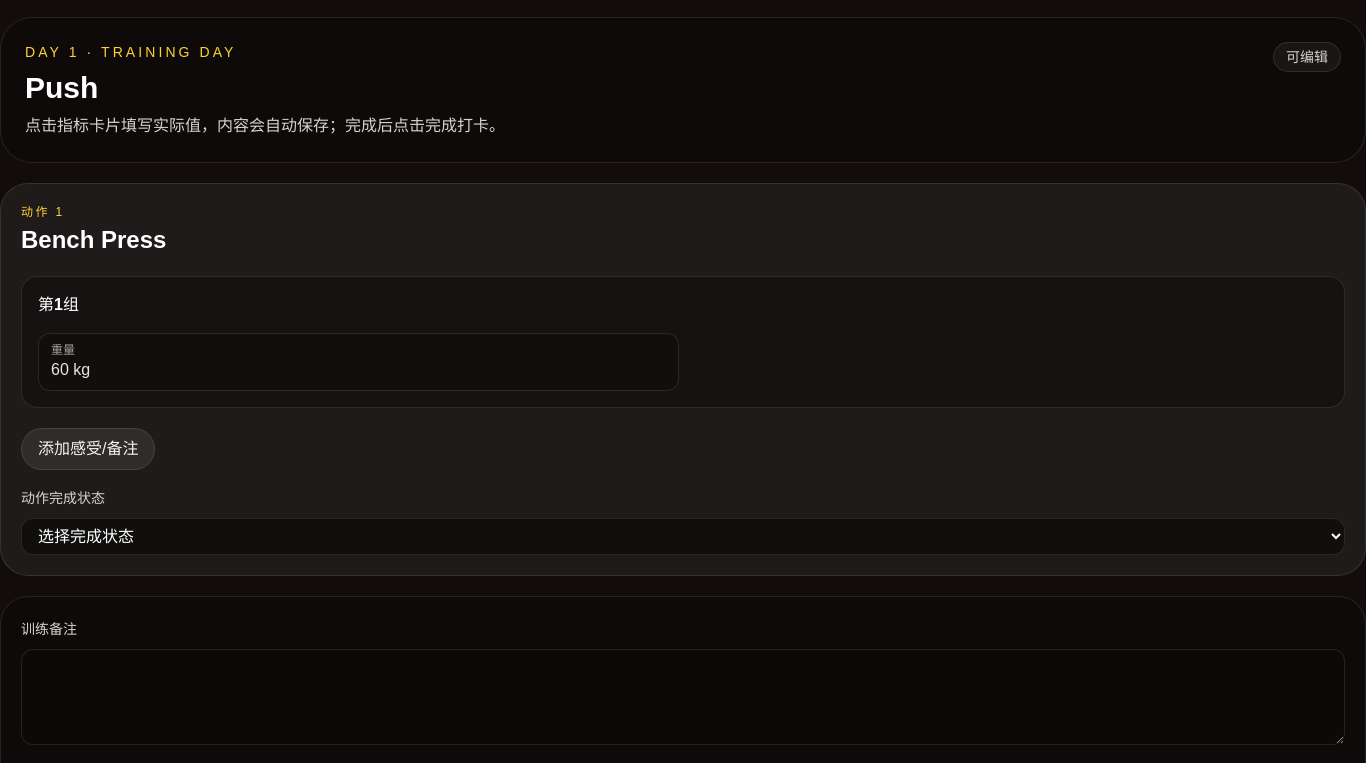
Test: WorkoutPage › blocks completion with invalid actual metric values
This screenshot has width=1366, height=763.
(page scrolled)
Check: the heading "Bench Press" is shown, box [21,224,166,256]
Click the button "重量 60 kg" at (63, 350), box [38,333,679,391]
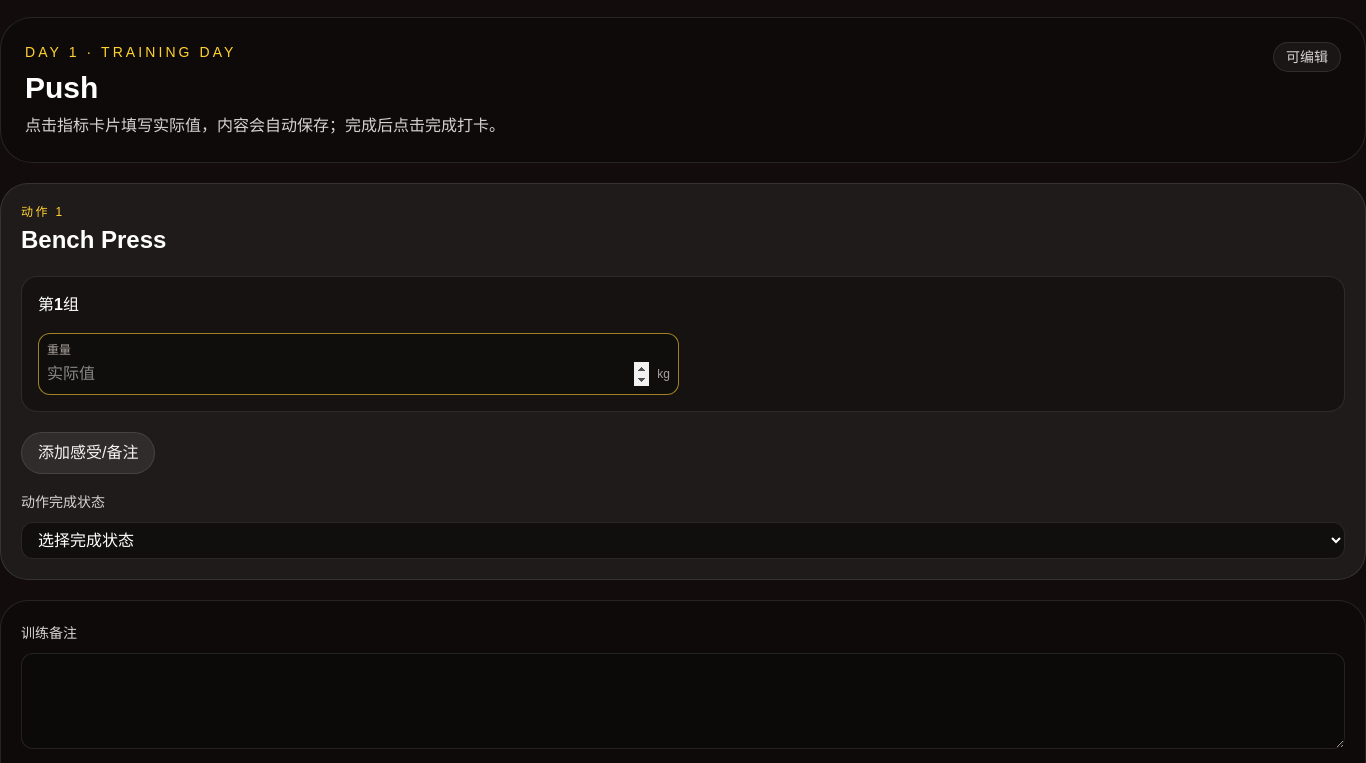
Type "-10" into the number field with placeholder "实际值" at (348, 374), box [47,362,649,386]
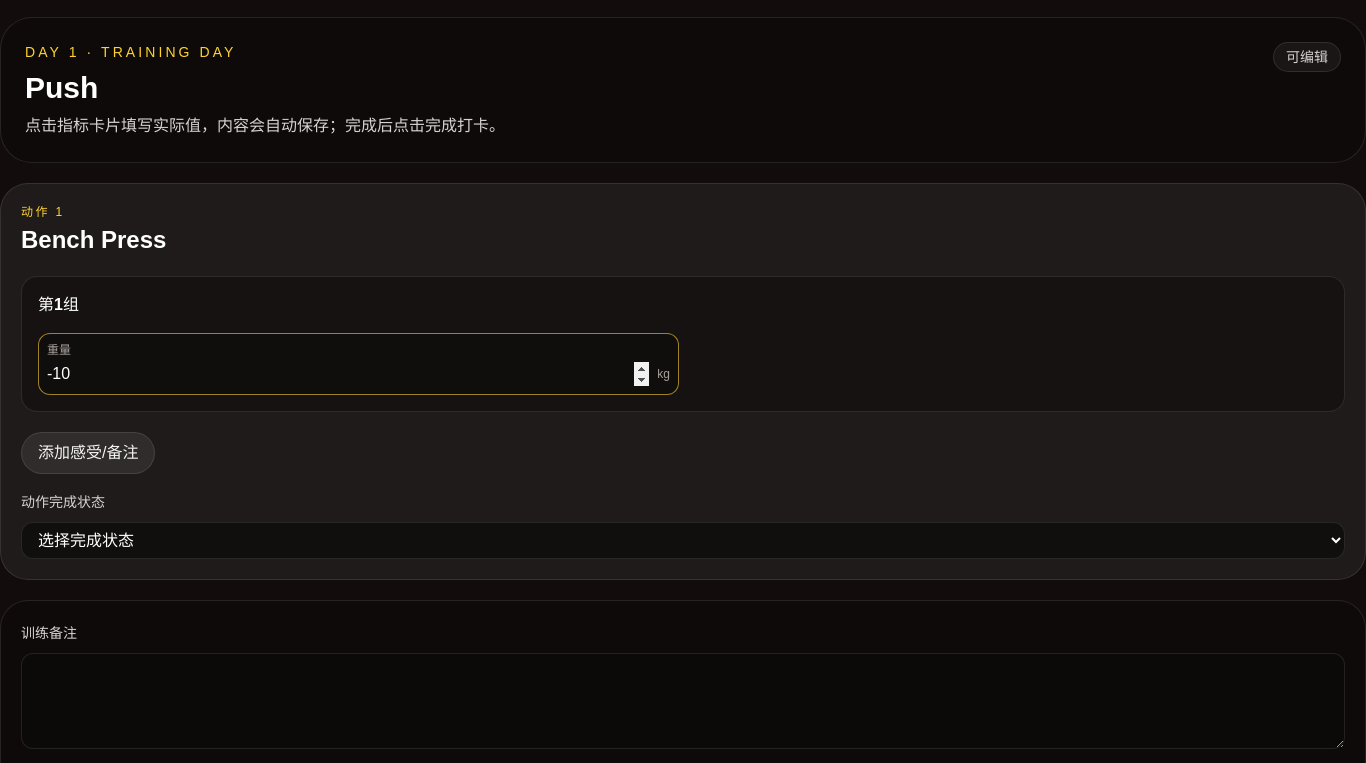
Press Tab
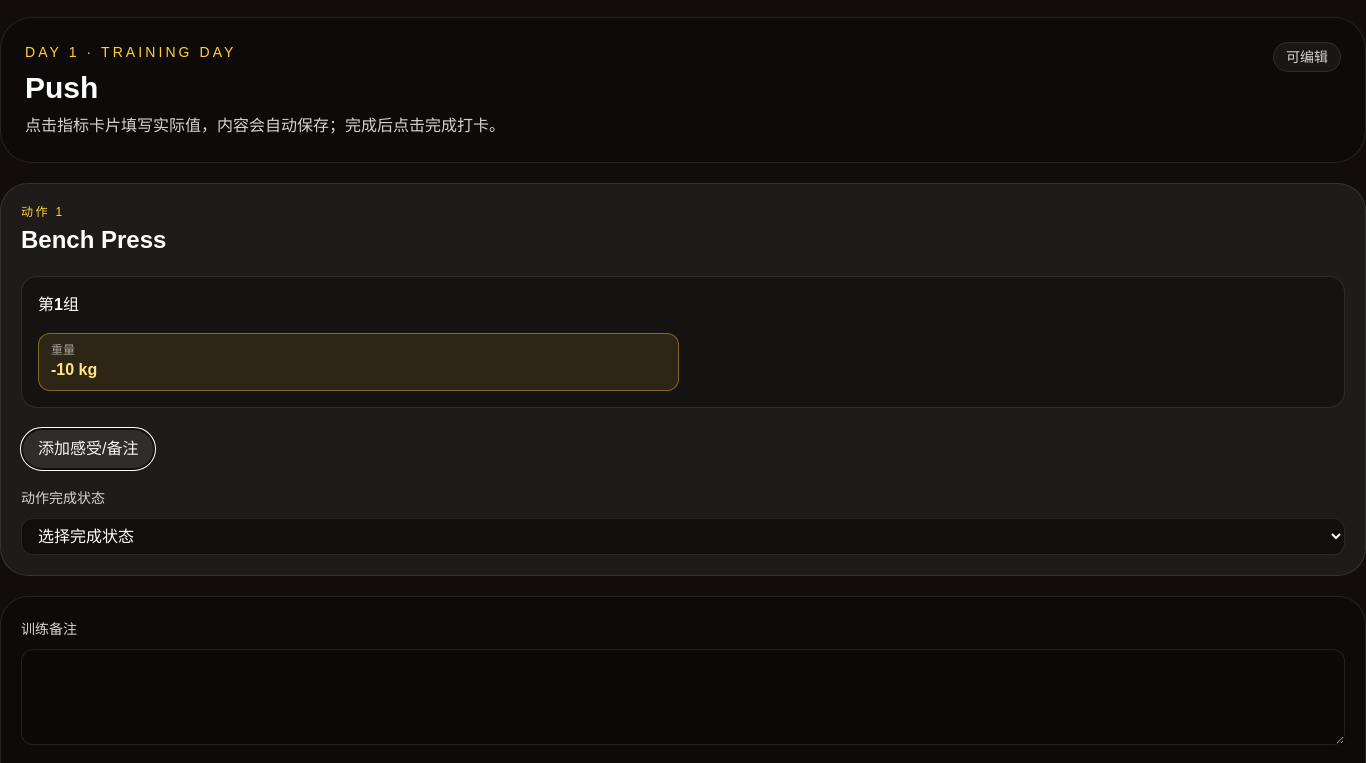
Select "已完成" in the dropdown named "Bench Press 完成状态" at (683, 536), box [21,518,1345,555]
(page scrolled)
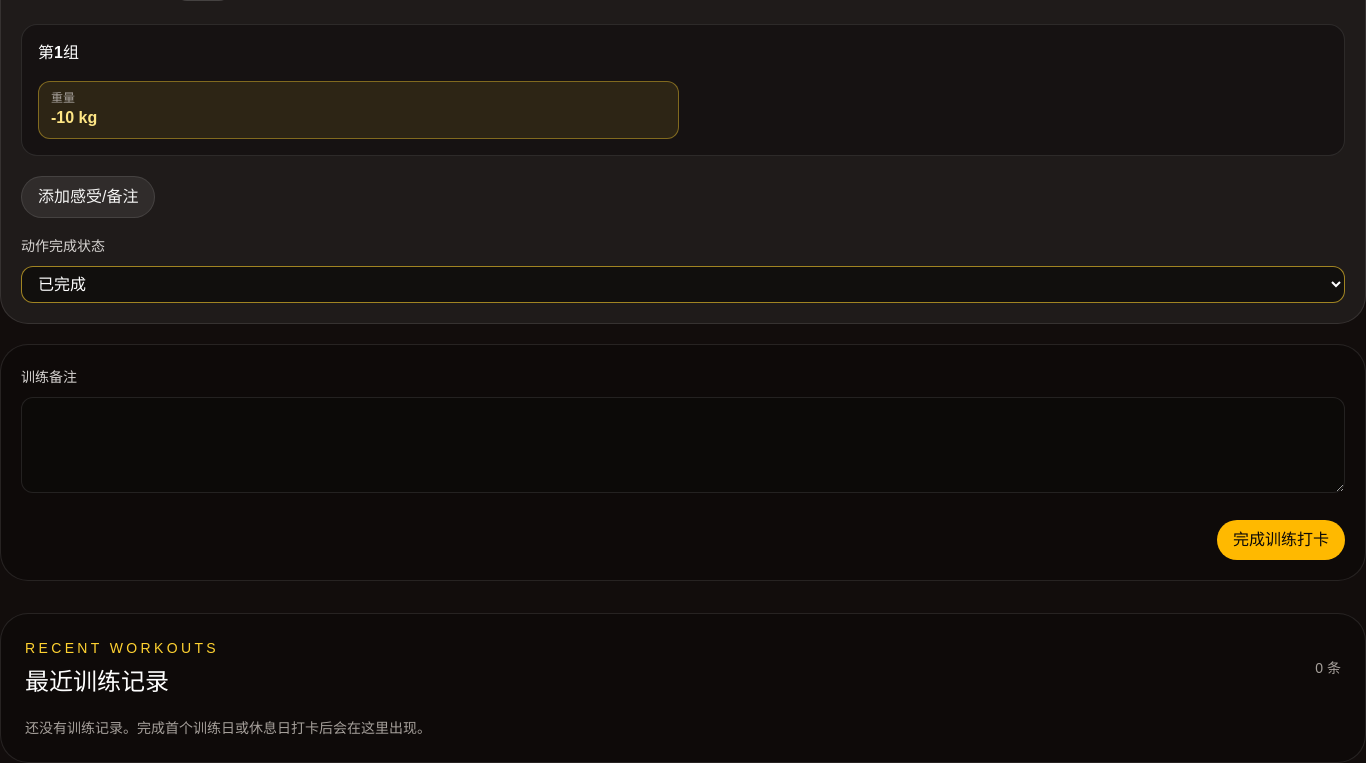
Click the button "完成训练打卡" at (1281, 540), box [1217,520,1345,560]
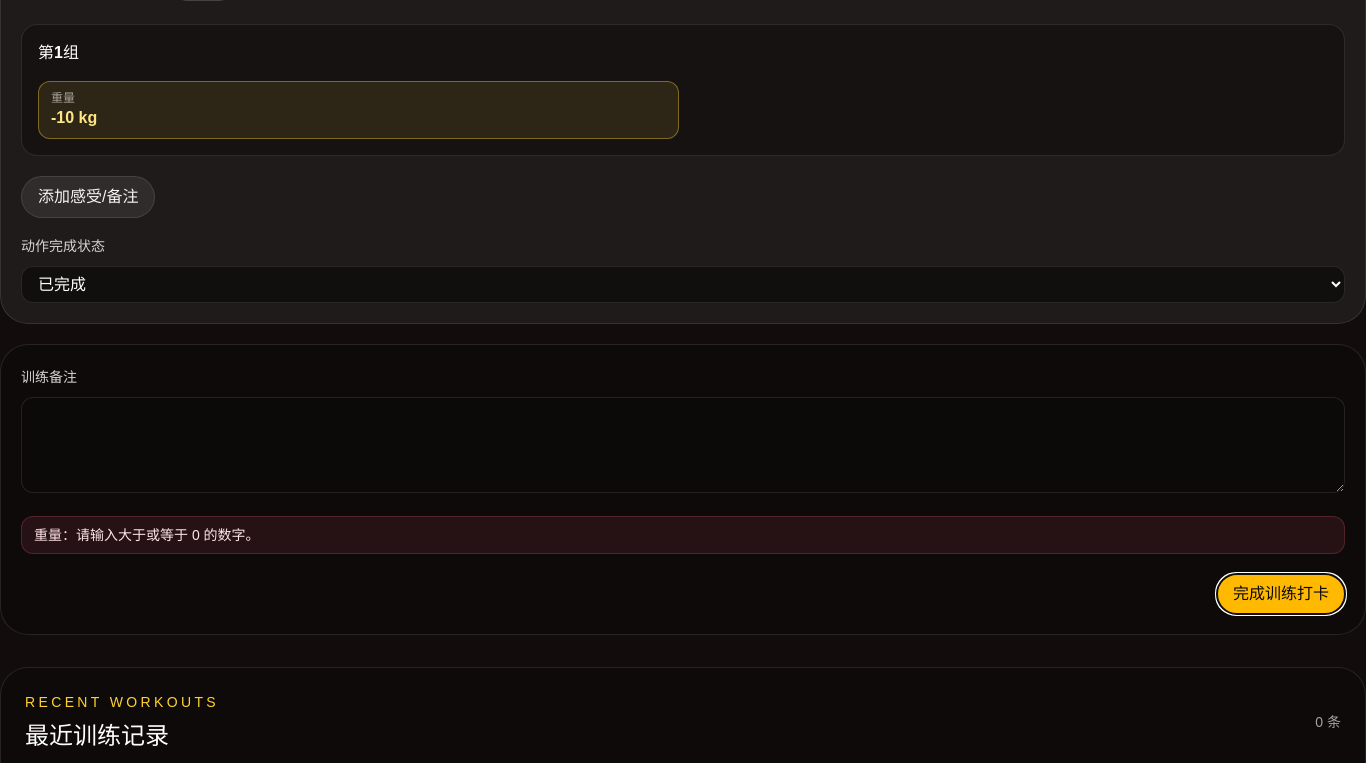
Check: the text "重量：请输入大于或等于 0 的数字。" is shown, box [21,516,1345,554]
